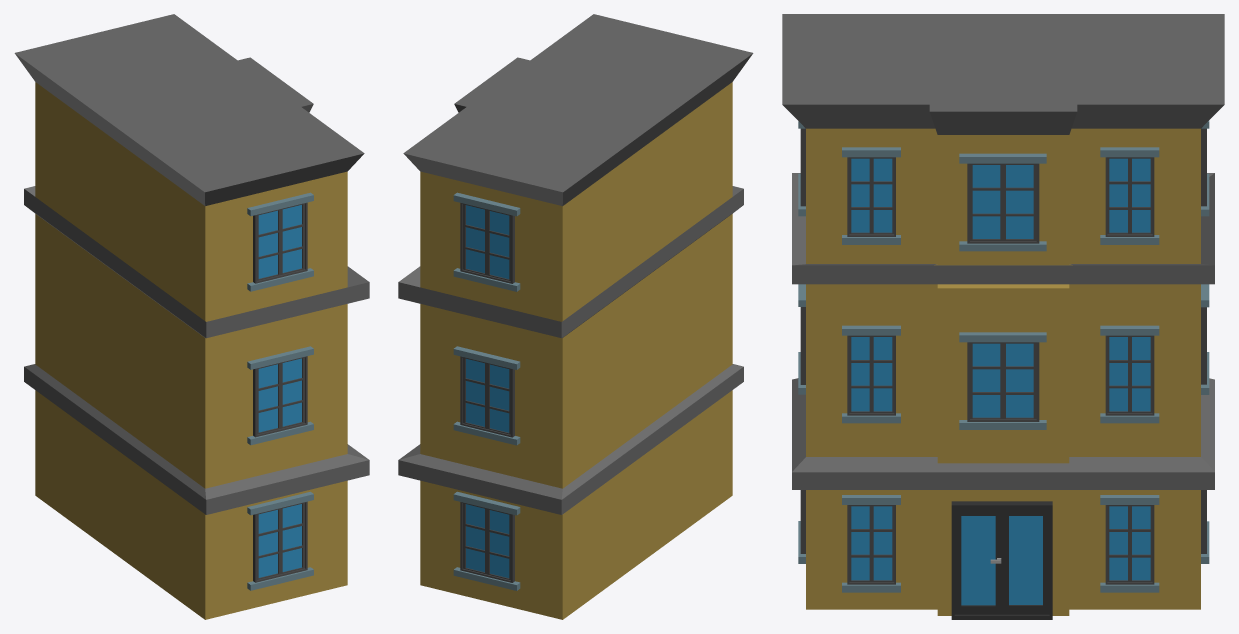
File: Building3.fbx
3 views of the same model, side by side, from view 1: azimuth 30°, elevation 25°; view 2: azimuth 150°, elevation 25°; view 3: azimuth 270°, elevation 25° (orthographic). The views are drawn at different scales.
Visible parts, largest first — view 1: Cube.143, Cube.180, Cube.186, Cube.183, Cube.179, Cube.185, Cube.182, Cube.187, Cube.181, Cube.184; view 2: Cube.143, Cube.172, Cube.166, Cube.175, Cube.165, Cube.168, Cube.174, Cube.167, Cube.176, Cube.173; view 3: Cube.143, Cube.177, Cube.160, Cube.163, Cube.154, Cube.151, Cube.157, Cube.145, Cube.148, Cube.170, Cube.159, Cube.162 (+7 smaller).
Boxes of the visible parts, x1=… form: Cube.143: x1=14, y1=14, x2=369, y2=619; Cube.180: x1=253, y1=202, x2=307, y2=283; Cube.186: x1=253, y1=501, x2=307, y2=582; Cube.183: x1=253, y1=356, x2=307, y2=437; Cube.179: x1=247, y1=192, x2=313, y2=216; Cube.185: x1=247, y1=491, x2=313, y2=515; Cube.182: x1=247, y1=346, x2=313, y2=369; Cube.187: x1=247, y1=567, x2=313, y2=590; Cube.181: x1=247, y1=268, x2=313, y2=291; Cube.184: x1=247, y1=421, x2=313, y2=445; Cube.143: x1=398, y1=14, x2=753, y2=619; Cube.172: x1=460, y1=356, x2=514, y2=437; Cube.166: x1=460, y1=203, x2=514, y2=283; Cube.175: x1=460, y1=502, x2=514, y2=582; Cube.165: x1=453, y1=192, x2=520, y2=216; Cube.168: x1=453, y1=346, x2=520, y2=369; Cube.174: x1=453, y1=491, x2=520, y2=515; Cube.167: x1=453, y1=268, x2=520, y2=291; Cube.176: x1=453, y1=567, x2=520, y2=590; Cube.173: x1=453, y1=421, x2=520, y2=445; Cube.143: x1=782, y1=14, x2=1224, y2=615; Cube.177: x1=951, y1=501, x2=1052, y2=619; Cube.160: x1=967, y1=163, x2=1039, y2=243; Cube.163: x1=967, y1=342, x2=1039, y2=421; Cube.154: x1=1105, y1=335, x2=1154, y2=415; Cube.151: x1=1105, y1=157, x2=1154, y2=236; Cube.157: x1=1105, y1=505, x2=1154, y2=584; Cube.145: x1=847, y1=335, x2=895, y2=415; Cube.148: x1=847, y1=505, x2=895, y2=584; Cube.170: x1=847, y1=157, x2=895, y2=236; Cube.159: x1=959, y1=153, x2=1046, y2=163; Cube.162: x1=959, y1=332, x2=1046, y2=342.
Size of the model in its own units: 1263 by 3065 by 2417.
